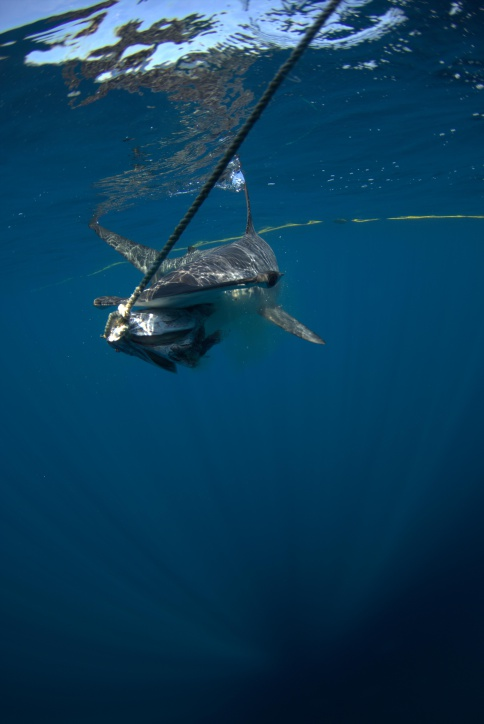Hammer: (56, 174, 350, 385)
